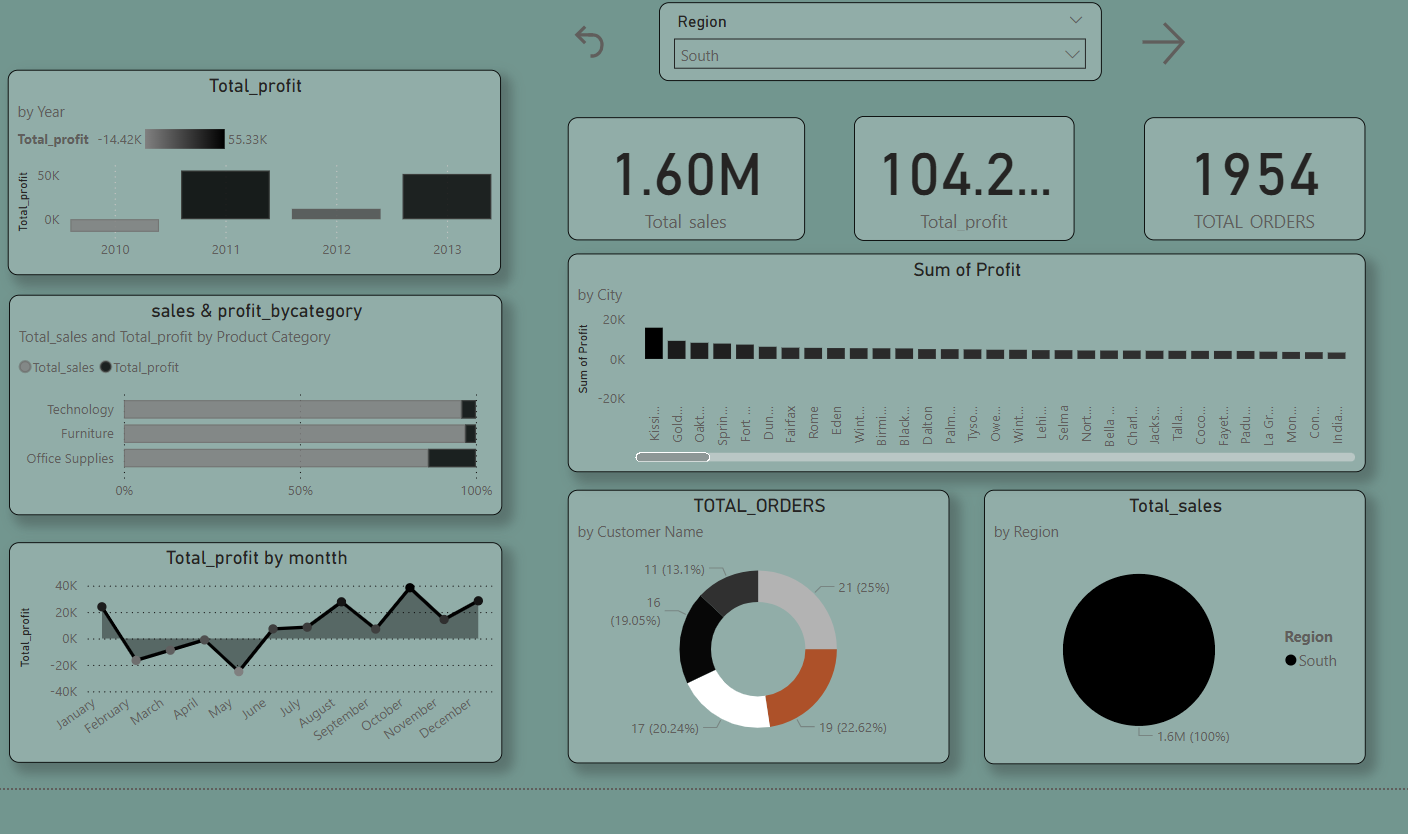

This screenshot's page, from the dashboard's own definition file:
{"tool":"powerbi","page":{"name":"Page 11","canvas":[1280,720],"ordinal":4},"visuals":[{"type":"columnChart","fields":{"Category":["Orders.Order Date.Variation.Date Hierarchy.Year"],"Y":["Orders.Total_profit"]},"box":[12.3,71.4,446,185.2],"z":0},{"type":"slicer","fields":{"Values":["Users.Region"]},"box":[838.4,11,400.7,71.4],"z":1000},{"type":"hundredPercentStackedBarChart","title":"sales &  profit_bycategory","fields":{"Y":["Orders.Total_sales","Orders.Total_profit"],"Category":["Orders.Product Category"]},"box":[13.7,274.4,446,199],"z":2000},{"type":"stackedAreaChart","title":"Total_profit by montth","fields":{"Category":["Orders.Order Date.Variation.Date Hierarchy.Month"],"Y":["Orders.Total_profit"]},"box":[13.7,498.1,446,199],"z":3000},{"type":"card","fields":{"Values":["Orders.Total_profit"]},"box":[776.7,112.5,199,112.5],"z":4000},{"type":"card","fields":{"Values":["Orders.Total_sales"]},"box":[518.7,113.9,214.1,111.1],"z":5000},{"type":"card","fields":{"Values":["Orders.TOTAL_ORDERS"]},"box":[1038.8,113.9,200.3,111.1],"z":6000},{"type":"donutChart","fields":{"Category":["Orders.Customer Name"],"Y":["Orders.TOTAL_ORDERS"]},"box":[518.7,450.1,344.4,247],"z":7000},{"type":"pieChart","fields":{"Category":["Users.Region"],"Y":["Orders.Total_sales"]},"box":[894.7,450.1,344.4,248.4],"z":8000},{"type":"lineChart","fields":{"Category":["Orders.City"],"Y":["Sum(Orders.Profit)"]},"box":[518.7,237.4,720.4,197.6],"z":9000},{"type":"actionButton","box":[675.2,31.6,133.2,59.8],"z":10000},{"type":"actionButton","box":[575.9,51.9,99.4,39.5],"z":11000}]}

Visuals, with their boxes on the page's 1280x720 design canvas (x1, y1, x2, y2). These are canvas units, not pixel positions in the 1408x834 screenshot, which may show the page scaled, cropped or inside an application window:
columnChart - Orders.Order Date.Variation.Date Hierarchy.Year x Orders.Total_profit: <bbox>12, 71, 458, 257</bbox>
slicer - Users.Region: <bbox>838, 11, 1239, 82</bbox>
"sales &  profit_bycategory" hundredPercentStackedBarChart: <bbox>14, 274, 460, 473</bbox>
"Total_profit by montth" stackedAreaChart: <bbox>14, 498, 460, 697</bbox>
card - Orders.Total_profit: <bbox>777, 112, 976, 225</bbox>
card - Orders.Total_sales: <bbox>519, 114, 733, 225</bbox>
card - Orders.TOTAL_ORDERS: <bbox>1039, 114, 1239, 225</bbox>
donutChart - Orders.Customer Name x Orders.TOTAL_ORDERS: <bbox>519, 450, 863, 697</bbox>
pieChart - Users.Region x Orders.Total_sales: <bbox>895, 450, 1239, 698</bbox>
lineChart - Orders.City x Sum(Orders.Profit): <bbox>519, 237, 1239, 435</bbox>
actionButton: <bbox>675, 32, 808, 91</bbox>
actionButton: <bbox>576, 52, 675, 91</bbox>
